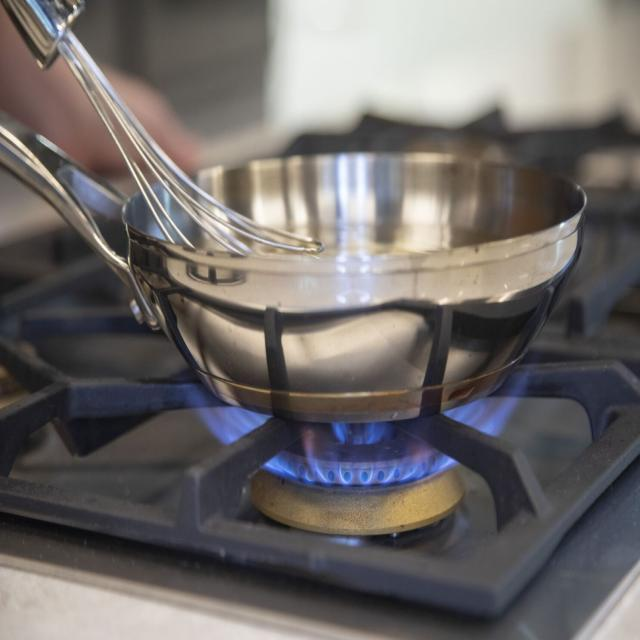Flame: (189, 389, 520, 486)
Pan: (121, 150, 582, 407)
